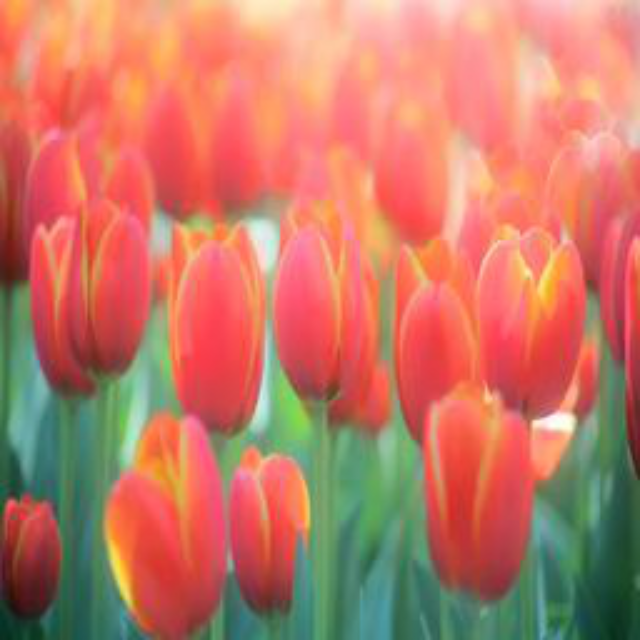tulip: (101, 409, 229, 638), (421, 377, 535, 606), (27, 200, 153, 399), (271, 198, 380, 423), (169, 220, 271, 442), (478, 224, 589, 425), (391, 238, 478, 452), (226, 446, 316, 624), (3, 493, 66, 625)
